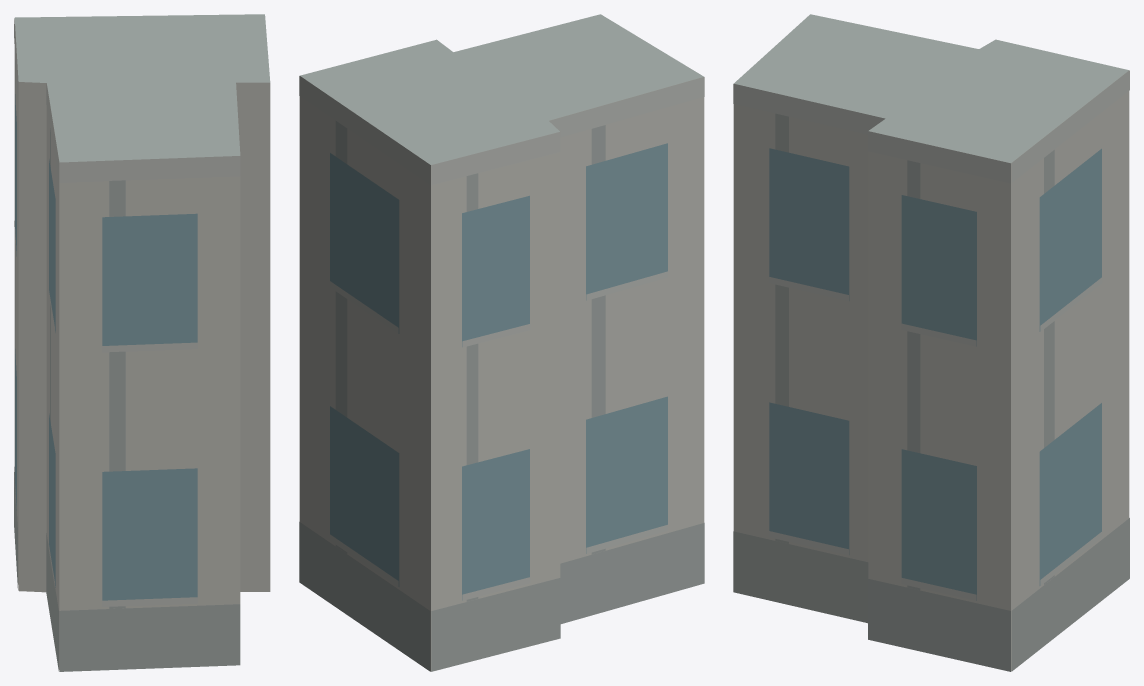
The model's file is survey-upis-32578492.glb.
The picture shows the model from 3 angles, left to right: view 1: azimuth 30°, elevation 25°; view 2: azimuth 150°, elevation 25°; view 3: azimuth 270°, elevation 25°; orthographic projection.
Parts seen in each view (by area): view 1: survey-upis-32578492.tmp; view 2: survey-upis-32578492.tmp; view 3: survey-upis-32578492.tmp.
Boxes of the visible parts, x1=… form: survey-upis-32578492.tmp: x1=14, y1=14, x2=270, y2=671; survey-upis-32578492.tmp: x1=299, y1=14, x2=704, y2=671; survey-upis-32578492.tmp: x1=733, y1=14, x2=1129, y2=671.
Size of the model in its own units: 3.85 by 6.1 by 4.31.
